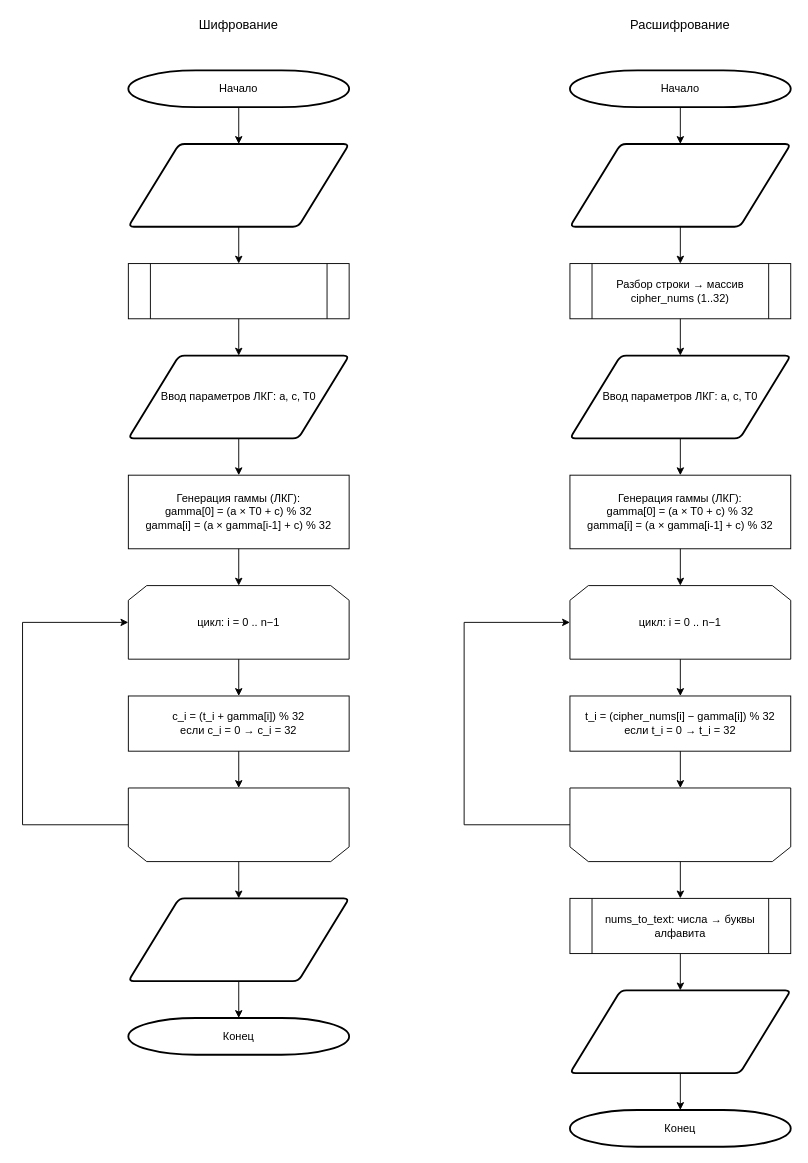
Some shapes in this 808 by 1163 pixel diagram are drawn without their labels. Each missing label, with the box of its shape:
text_to_numbers: буква → номер (1..32): (127, 263, 349, 319)
Ввод текста (только русские буквы): (127, 143, 350, 227)
Ввод шифртекста: двузначные числа через пробел: (569, 143, 791, 227)
Возврат расшифрованного текста: (569, 989, 791, 1074)
Возврат шифртекста: числа c_1..c_n через пробел: (127, 897, 350, 982)
